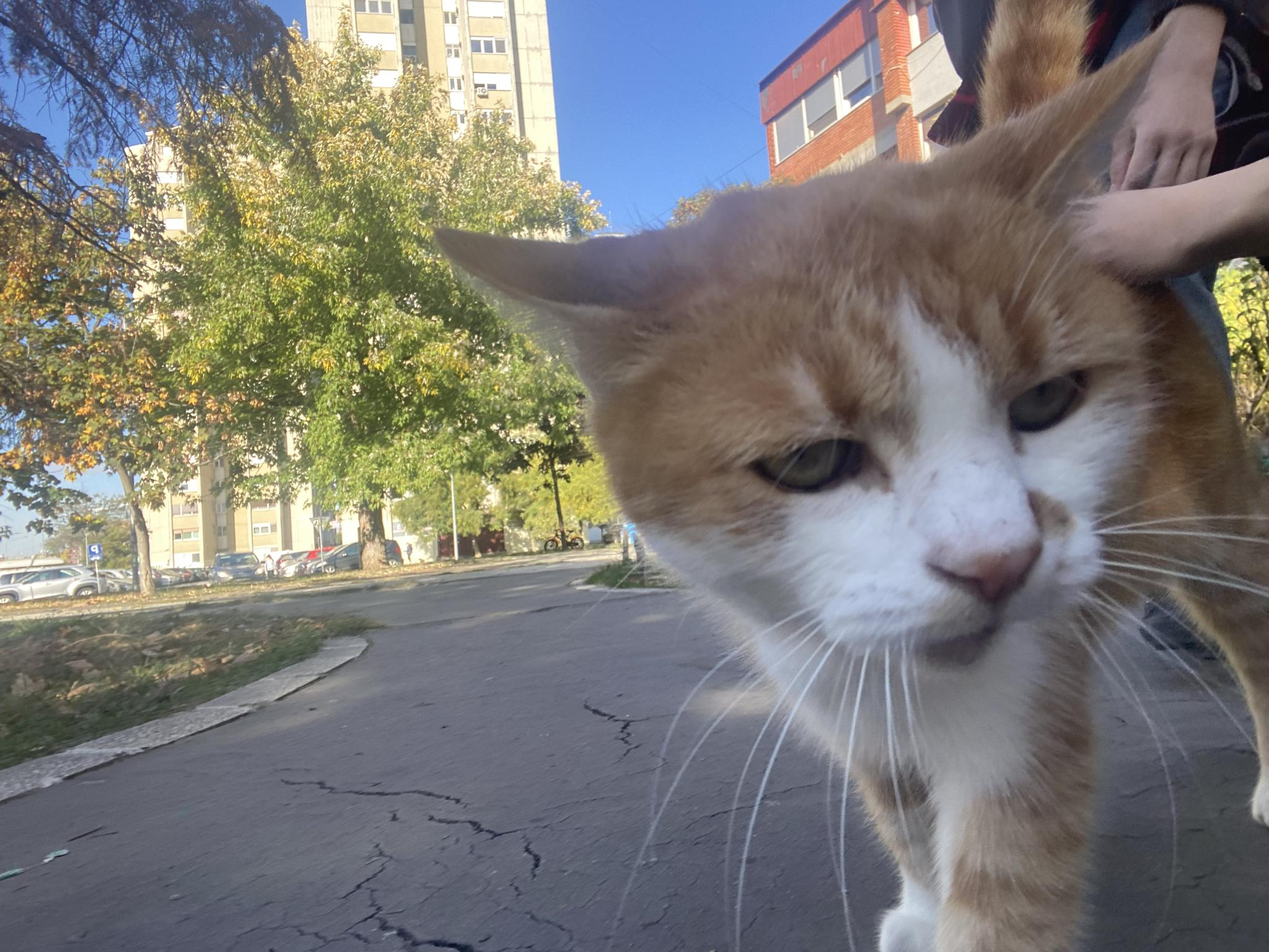macka: (428, 0, 1269, 952)
